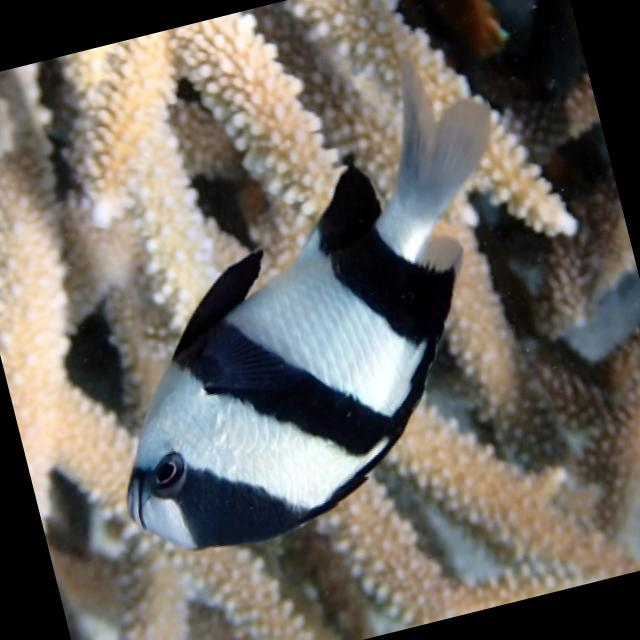ThreeStripedDamselfish: (122, 95, 486, 548)
